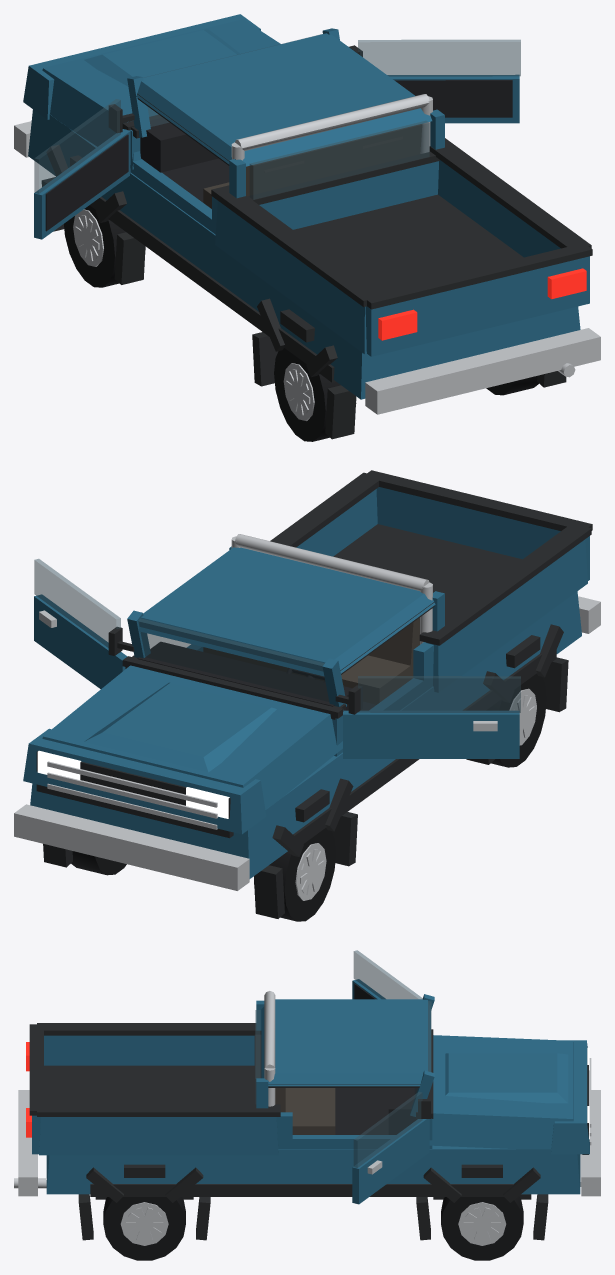
Rendered from pickup.glb.
3 renders of one model, top to bottom at view 1: azimuth 30°, elevation 25°; view 2: azimuth 150°, elevation 25°; view 3: azimuth 270°, elevation 25°, orthographic. The views are drawn at different scales.
Visible parts, largest first — view 1: MAT_Body_Paint, MAT_Trim, MAT_Glass, MAT_Chrome, MAT_Interior_Fabric, MAT_Tire, MAT_Interior_Trim_1, MAT_Interior_Trim_0, MAT_Interior_Trim, MAT_Light_Tail; view 2: MAT_Body_Paint, MAT_Trim, MAT_Chrome, MAT_Glass, MAT_Tire, MAT_Interior_Trim_1, MAT_Interior_Fabric, MAT_Light_Head; view 3: MAT_Body_Paint, MAT_Trim, MAT_Chrome, MAT_Tire, MAT_Glass, MAT_Interior_Trim_1, MAT_Interior_Fabric.
Boxes of the visible parts, x1,y1,x2,y2 form: MAT_Body_Paint: (23,14,589,399); MAT_Trim: (41,45,592,439); MAT_Glass: (34,33,520,199); MAT_Chrome: (14,94,600,420); MAT_Interior_Fabric: (203,124,422,208); MAT_Tire: (64,205,538,441); MAT_Interior_Trim_1: (140,117,229,202); MAT_Interior_Trim_0: (394,80,512,117); MAT_Interior_Trim: (45,134,128,231); MAT_Light_Tail: (378,268,586,340); MAT_Body_Paint: (23,487,589,878); MAT_Trim: (36,470,592,918); MAT_Chrome: (14,534,600,900); MAT_Glass: (34,559,520,712); MAT_Tire: (71,673,546,921); MAT_Interior_Trim_1: (137,642,375,710); MAT_Interior_Fabric: (203,617,419,704); MAT_Light_Head: (37,750,229,818); MAT_Body_Paint: (32,979,589,1204); MAT_Trim: (29,1023,588,1240); MAT_Chrome: (14,991,600,1245); MAT_Tire: (103,1196,523,1260); MAT_Glass: (255,950,431,1167); MAT_Interior_Trim_1: (335,1088,417,1134); MAT_Interior_Fabric: (275,1088,335,1134).
Bounding box in the file's own units: 4.13 × 1.92 × 5.39.
